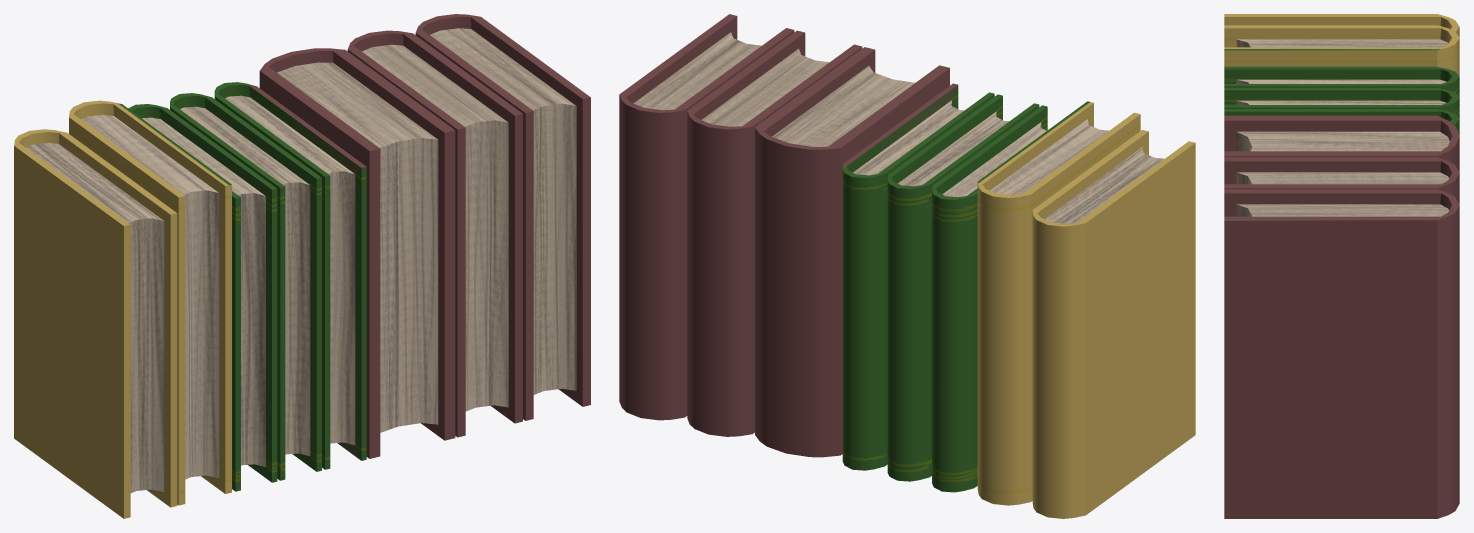
Rendered from books_textured.fbx.
3 views of the same model, side by side, from view 1: azimuth 30°, elevation 25°; view 2: azimuth 150°, elevation 25°; view 3: azimuth 270°, elevation 25° (orthographic). The views are drawn at different scales.
Visible parts, largest first — view 1: pCube9; view 2: pCube9; view 3: pCube9.
Boxes of the visible parts, x1,y1,x2,y2 form: pCube9: [14, 14, 590, 518]; pCube9: [619, 14, 1195, 518]; pCube9: [1224, 14, 1459, 518].
Bounding box in the file's own units: 42.87 × 27.01 × 19.29.
